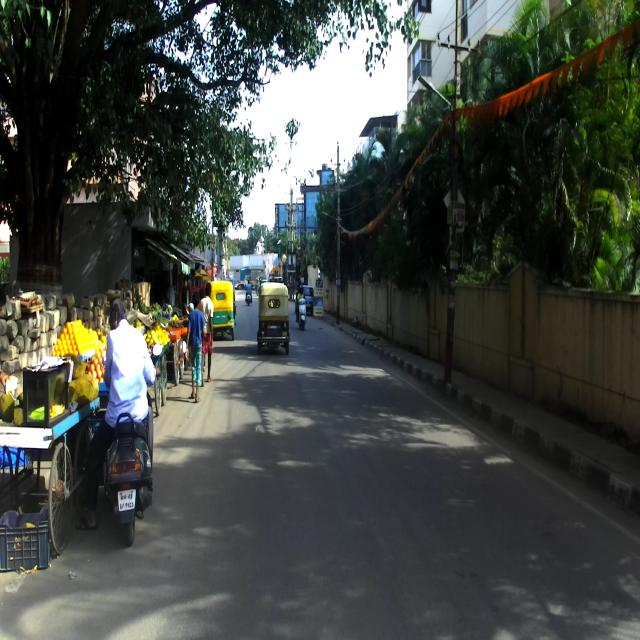auto ahead at: (257, 283, 289, 363)
motorcycle ahead at: (100, 406, 156, 542)
